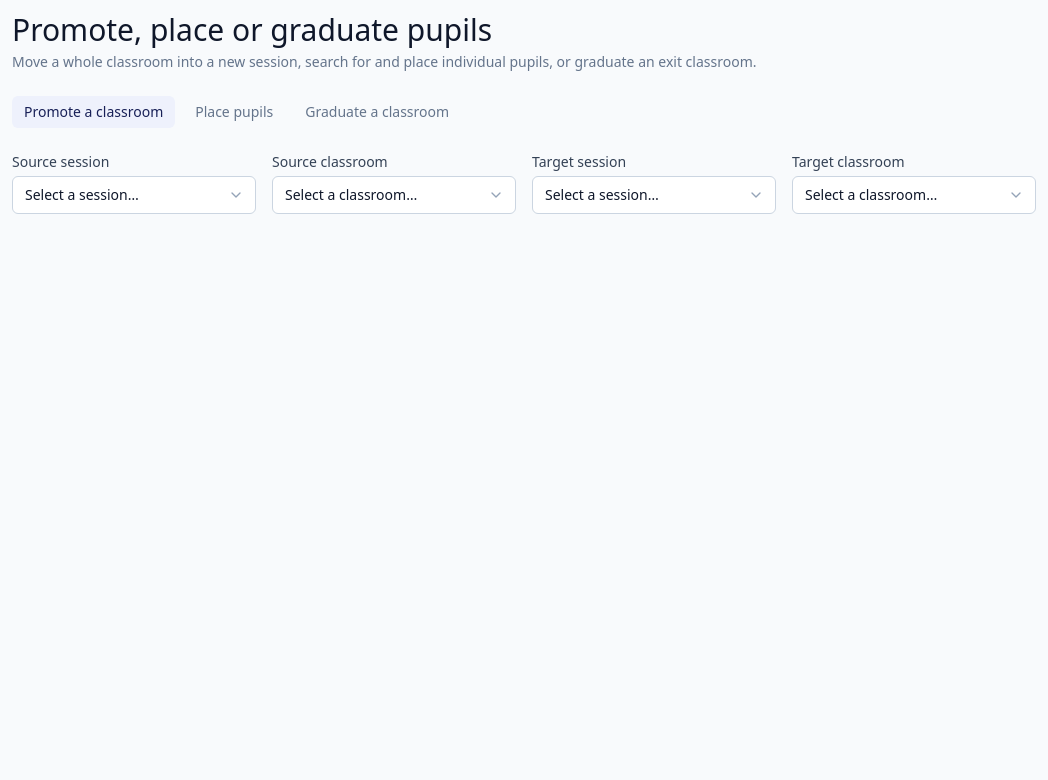
PromotionPage › promotes the selected roster into a target class and session
The width and height of the screenshot is (1048, 780).
Select "Primary 1" in the dropdown labelled "Source classroom" at (394, 195), box [272,176,516,214]
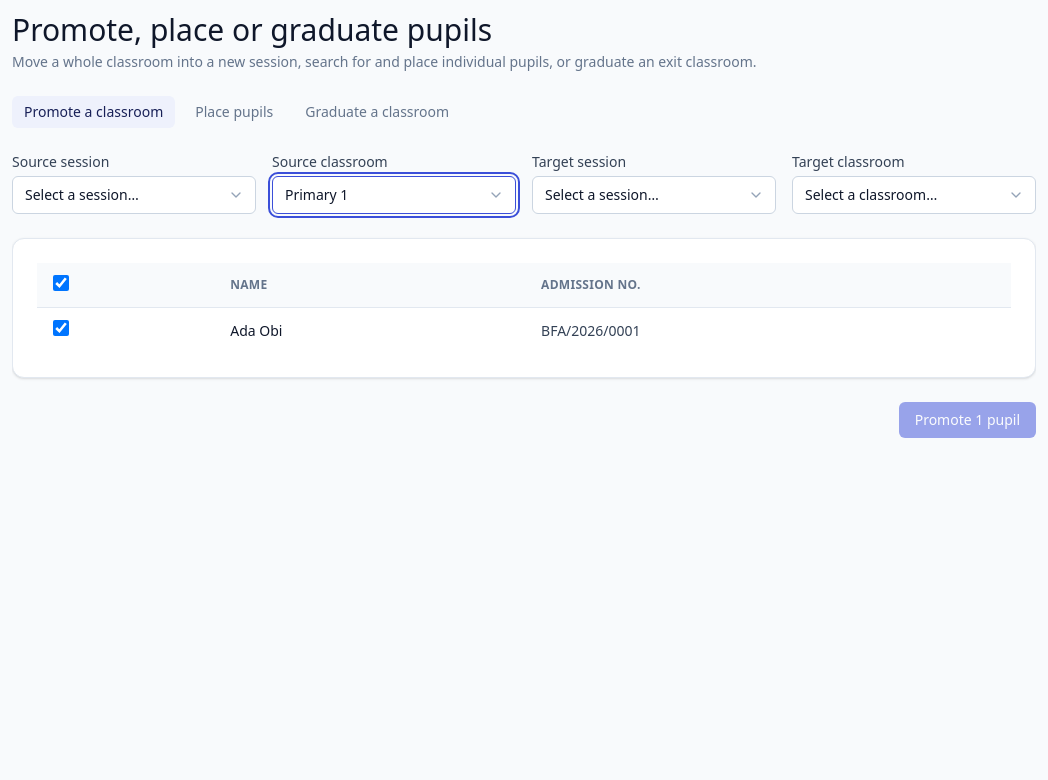
Expected: the text "Ada Obi" is shown, [214,308,525,353]
Select "2027/2028" in the dropdown labelled "Target session" at (654, 195), box [532,176,776,214]
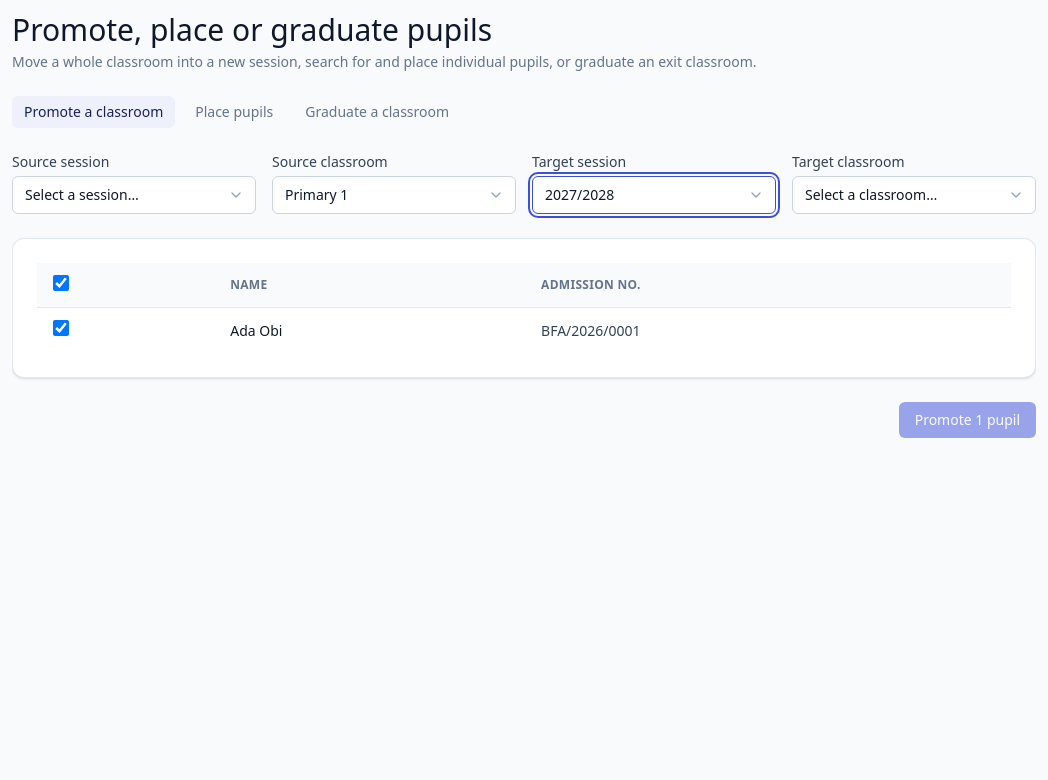
Select "Primary 2" in the dropdown labelled "Target classroom" at (914, 195), box [792,176,1036,214]
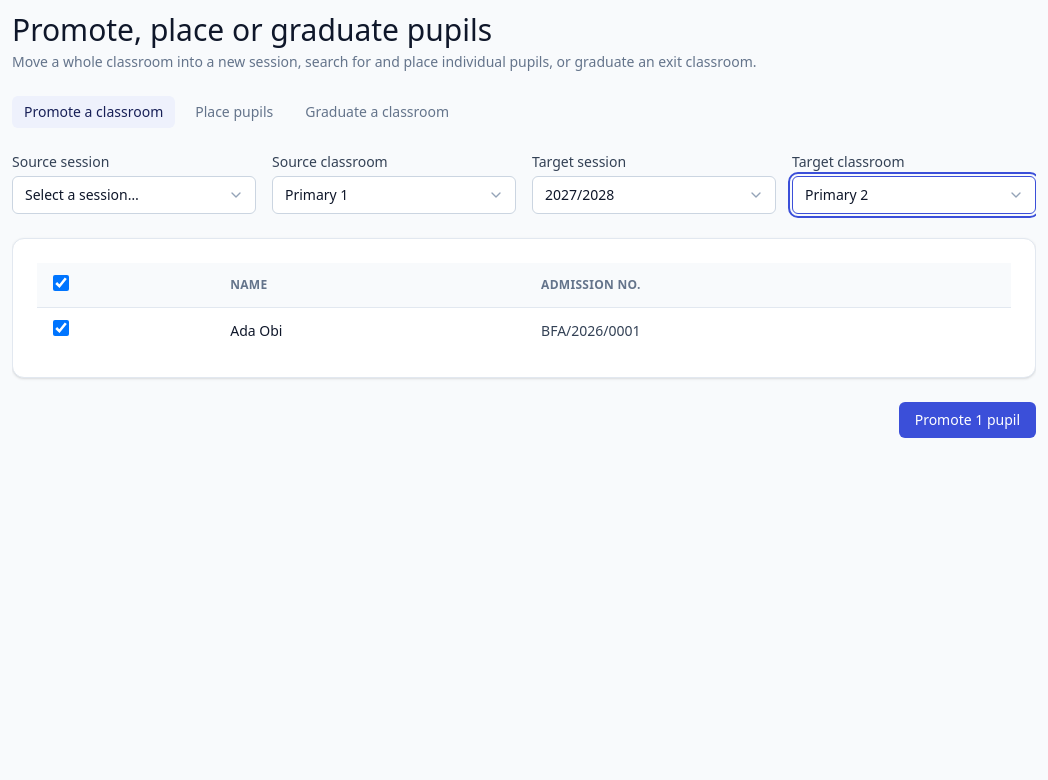
Click the button "Promote 1 pupil" at (967, 420), box [899,402,1036,438]
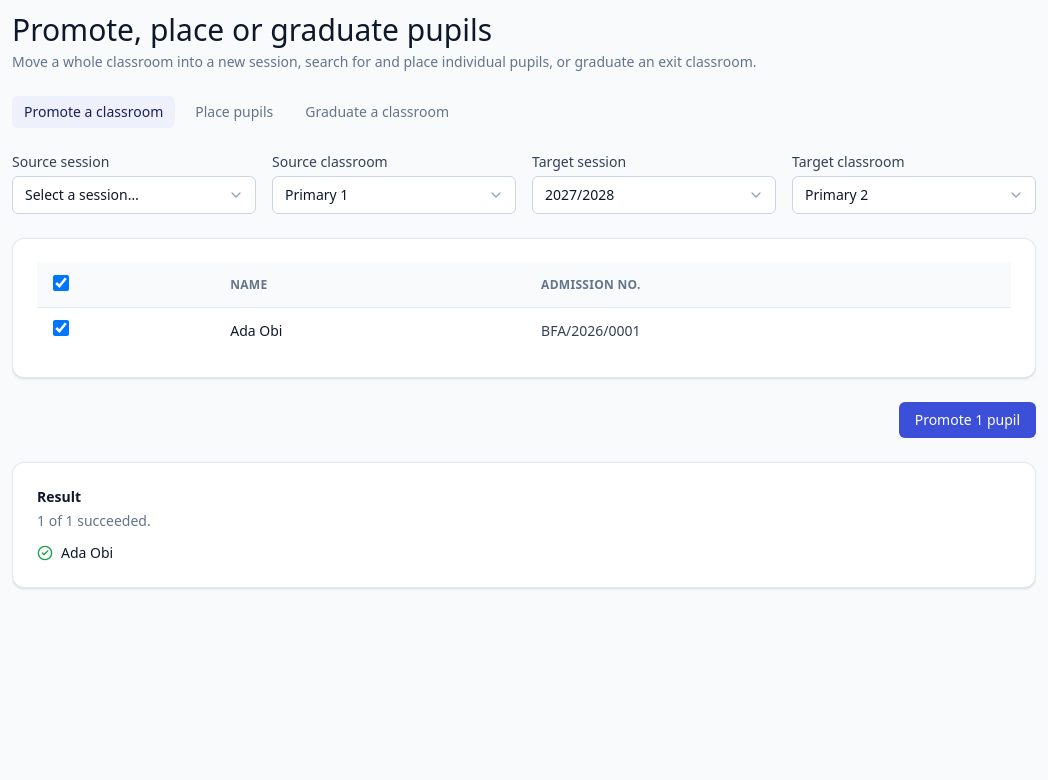
Expected: the text "1 of 1 succeeded." is shown, [37,511,151,530]
